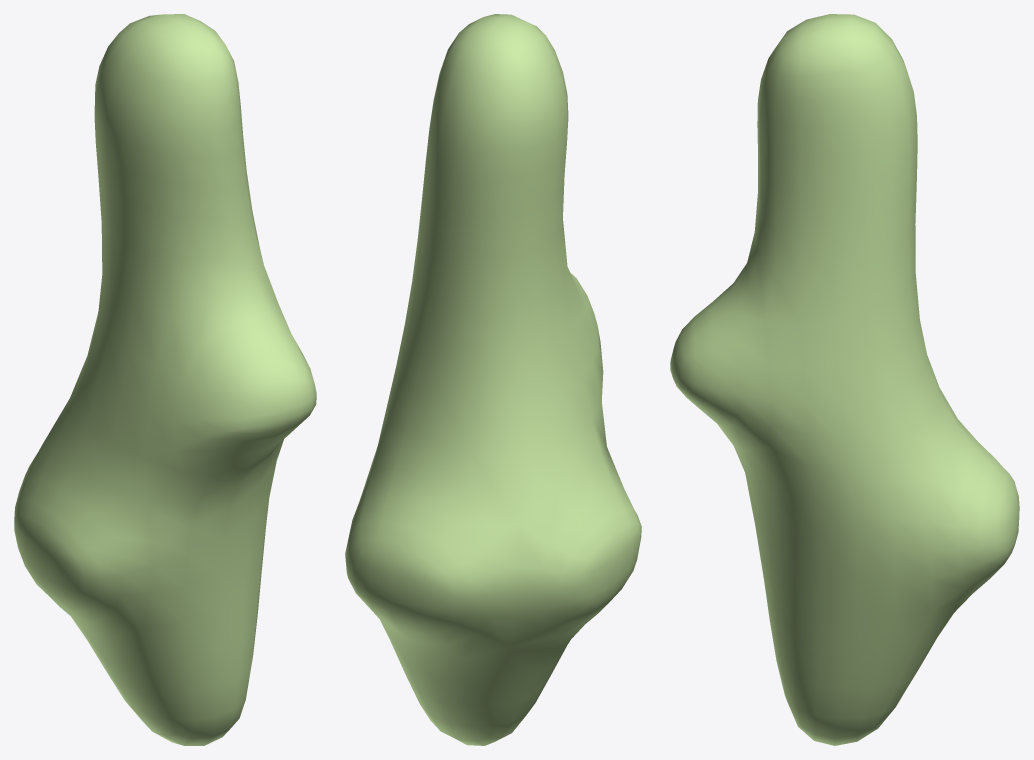
File: Tree3_low.fbx
The picture shows the model from 3 angles, left to right: view 1: azimuth 30°, elevation 25°; view 2: azimuth 150°, elevation 25°; view 3: azimuth 270°, elevation 25°; orthographic projection. The views are drawn at different scales.
Parts seen in each view (by area): view 1: Tree.003_low; view 2: Tree.003_low; view 3: Tree.003_low.
Boxes of the visible parts, left/top/right/bottom form: Tree.003_low: left=14, top=14, right=316, bottom=745; Tree.003_low: left=345, top=14, right=641, bottom=745; Tree.003_low: left=670, top=14, right=1019, bottom=745.
Bounding box in the file's own units: 69.61 × 213 × 94.53.
